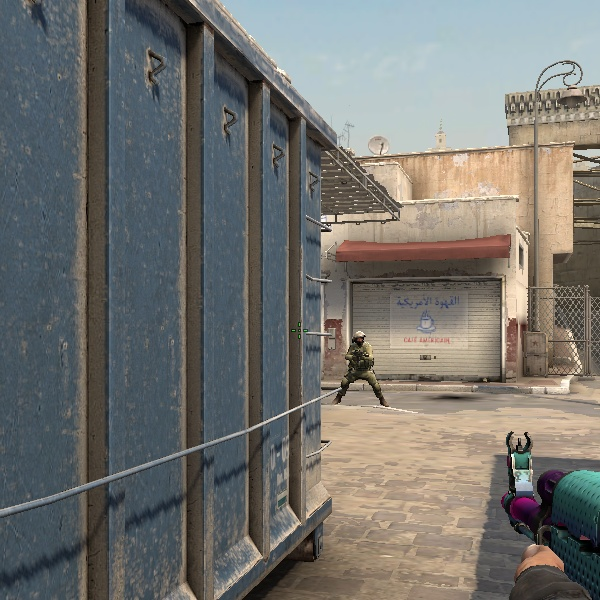ct_body: (338, 329, 383, 404)
